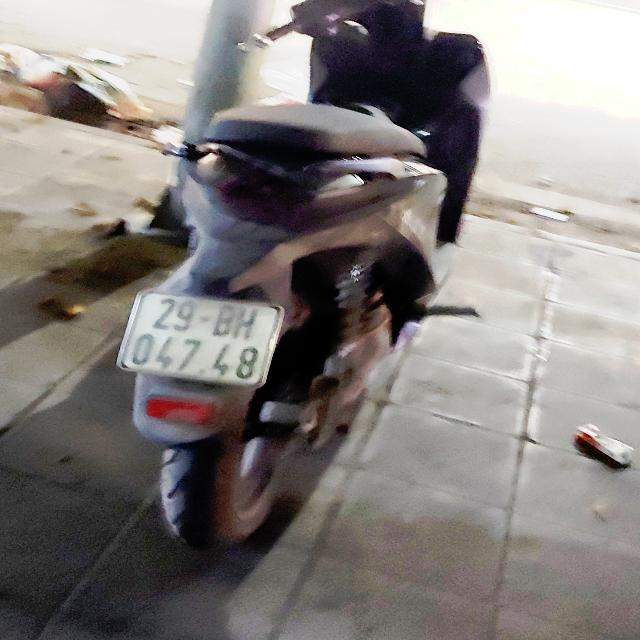license_plate: (119, 291, 282, 389)
